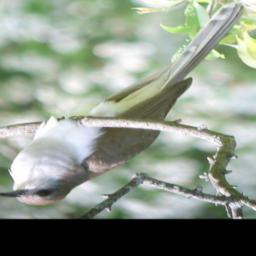Cuckoo: (0, 1, 251, 206)
